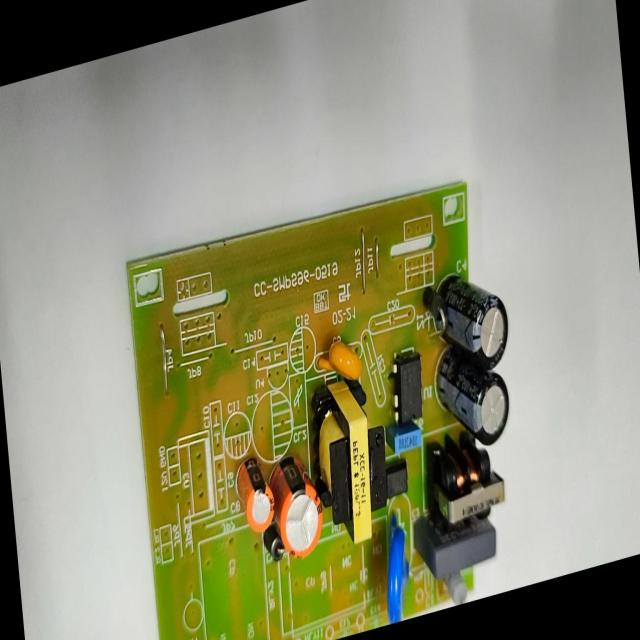Cap1: (272, 442, 327, 567)
Cap2: (236, 449, 276, 540)
Cap3: (435, 339, 514, 461)
Cap4: (432, 260, 514, 383)
MOSFET: (385, 339, 429, 427)
Mov: (376, 500, 422, 625)
Resistor: (441, 566, 476, 608)
Transformer: (314, 366, 382, 556), (426, 429, 512, 534)
